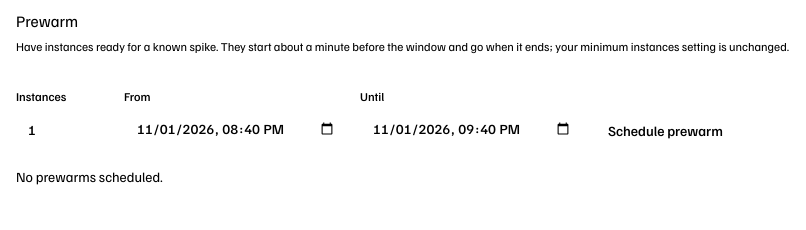
PrewarmPanel › refuses a window that has already started
Replace the text in the field labelled "From" with "2020-01-01T00:00" at (236,129), box [124, 111, 348, 147]
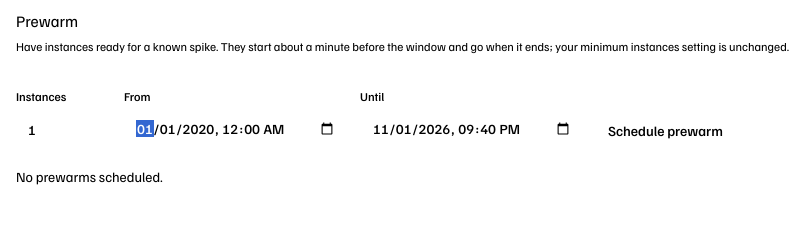
Replace the text in the field labelled "Until" with "2020-01-01T02:00" at (472,129), box [360, 111, 584, 147]
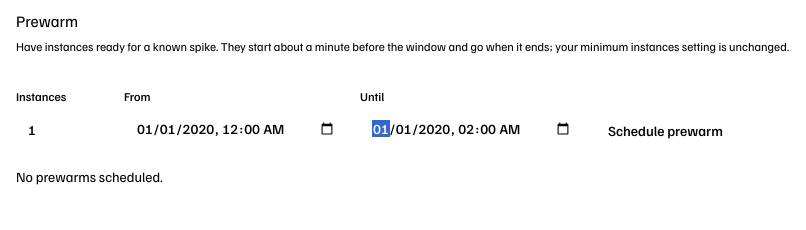
Click the button "Schedule prewarm" at (666,131), box [596, 115, 735, 147]
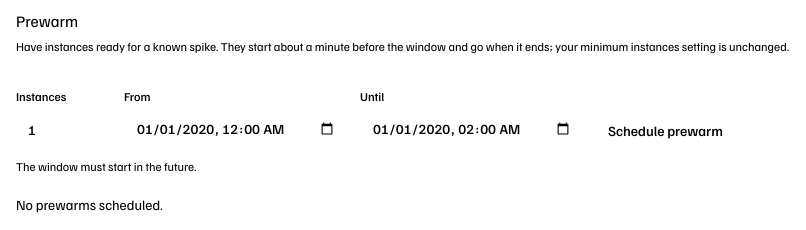
Result: the text "The window must start in the future." is shown at [16, 159, 196, 174]
